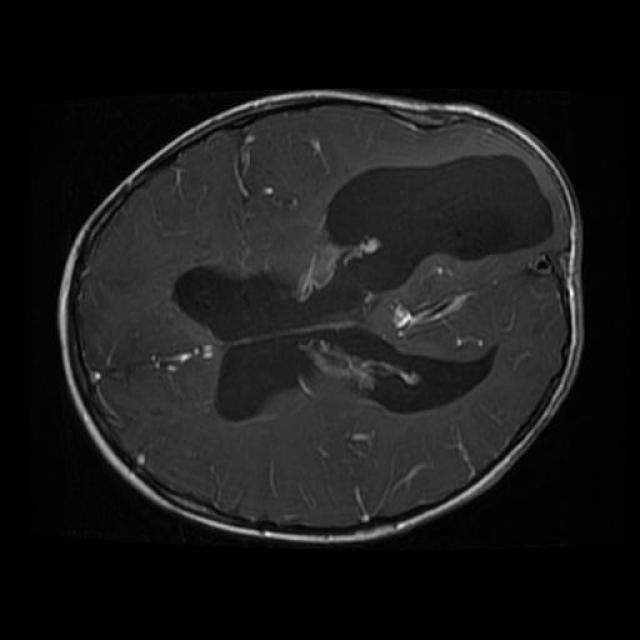Glioma: (173, 156, 552, 421)
